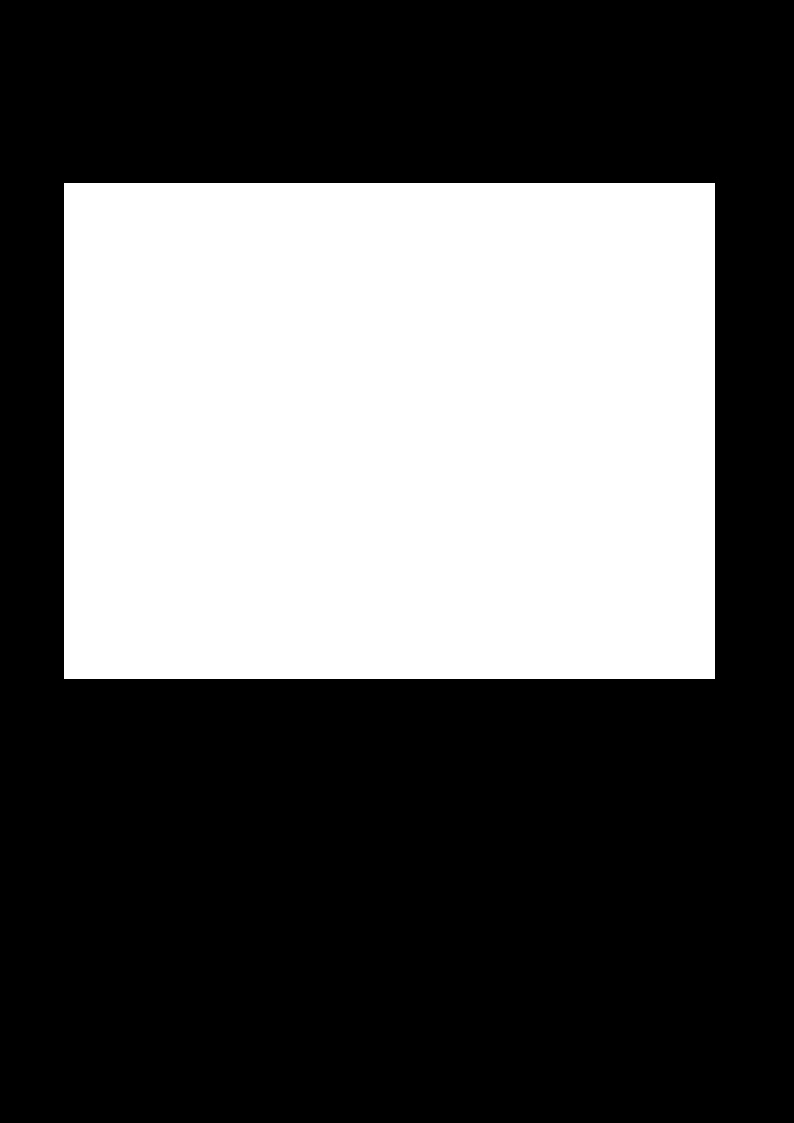table: (64, 183, 714, 678)
